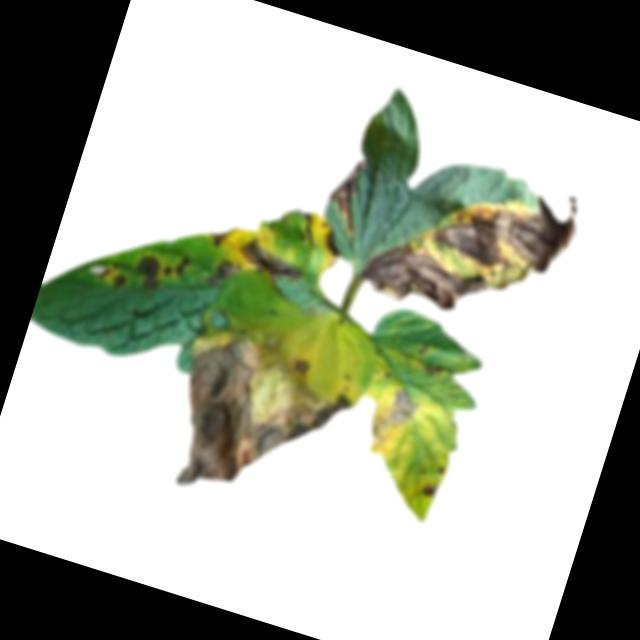Early_blight: (150, 316, 370, 530), (414, 152, 586, 285), (356, 228, 522, 335), (367, 380, 424, 457), (234, 235, 310, 289), (321, 153, 370, 228), (199, 253, 241, 293), (131, 250, 167, 290), (311, 219, 347, 259), (95, 260, 132, 290), (204, 219, 237, 251), (162, 250, 193, 283), (418, 355, 449, 380), (416, 477, 440, 501)
